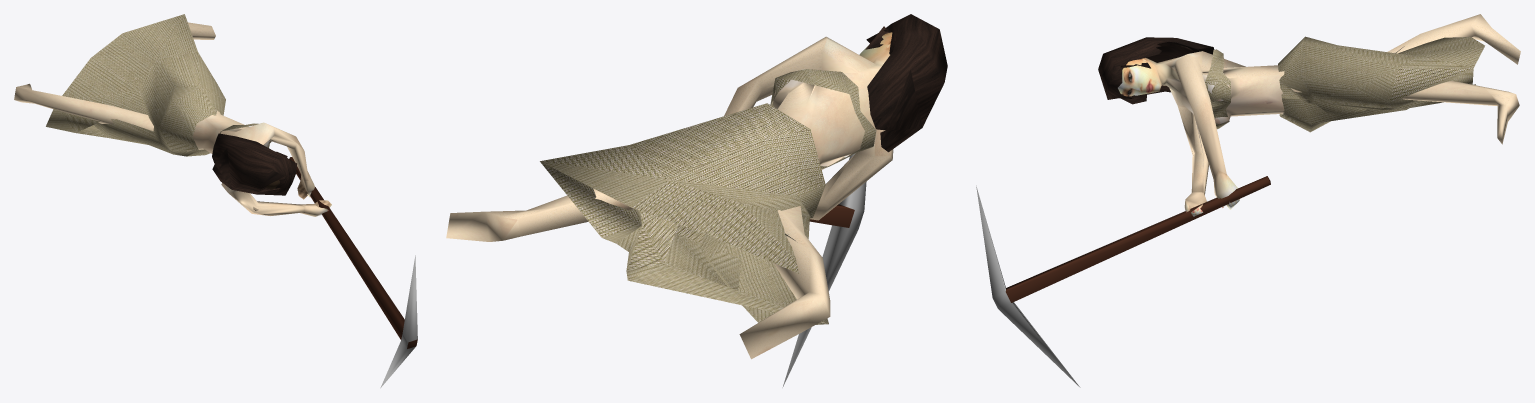
File: worker_000304.obj
The picture shows the model from 3 angles, left to right: view 1: azimuth 30°, elevation 25°; view 2: azimuth 150°, elevation 25°; view 3: azimuth 270°, elevation 25°; orthographic projection. The views are drawn at different scales.
Visible parts, largest first — view 1: saree_Cylinder, body.001_omino.012, hair.003_omino.013, miner_Cylinder.002; view 2: saree_Cylinder, body.001_omino.012, hair.003_omino.013, miner_Cylinder.002; view 3: body.001_omino.012, saree_Cylinder, miner_Cylinder.002, hair.003_omino.013.
Boxes of the visible parts, box(x1,y1,x2,y2) form: saree_Cylinder: box(46, 14, 271, 156); body.001_omino.012: box(14, 22, 331, 216); hair.003_omino.013: box(212, 133, 296, 195); miner_Cylinder.002: box(289, 157, 417, 388); saree_Cylinder: box(540, 69, 876, 324); body.001_omino.012: box(446, 32, 893, 359); hair.003_omino.013: box(865, 14, 947, 152); miner_Cylinder.002: box(782, 153, 866, 387); body.001_omino.012: box(1118, 14, 1520, 219); saree_Cylinder: box(1205, 36, 1484, 132); miner_Cylinder.002: box(976, 176, 1270, 387); hair.003_omino.013: box(1098, 37, 1214, 104).
Size of the model in its own units: 1.76 by 2.08 by 3.37.
